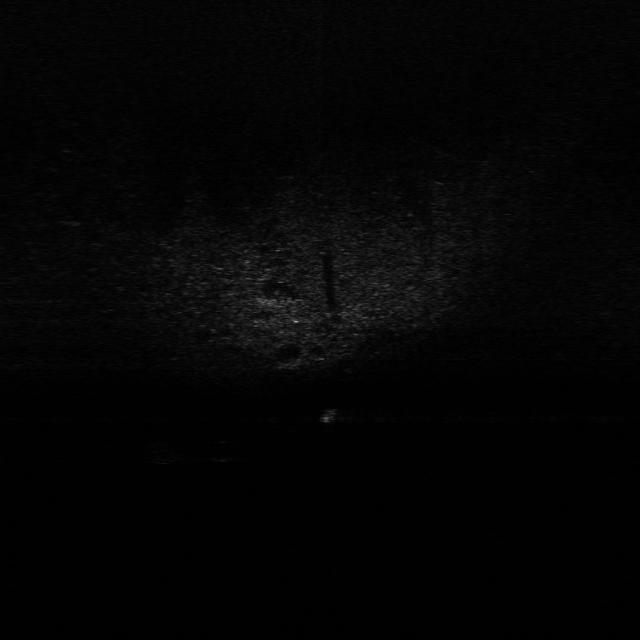ball: (206, 436, 240, 462)
circle cage: (136, 440, 187, 464)
cylinder: (318, 404, 344, 432)
